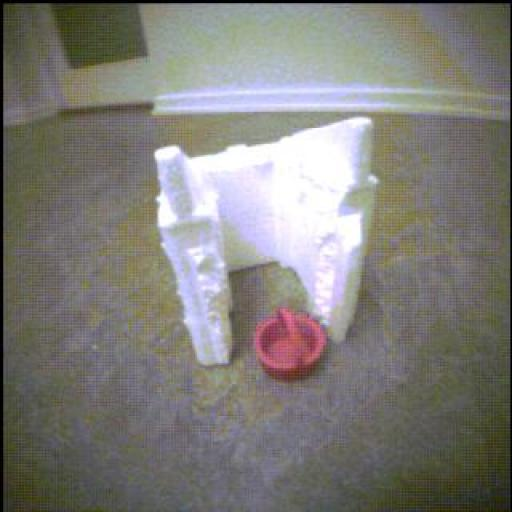Bucket: (256, 308, 328, 382)
